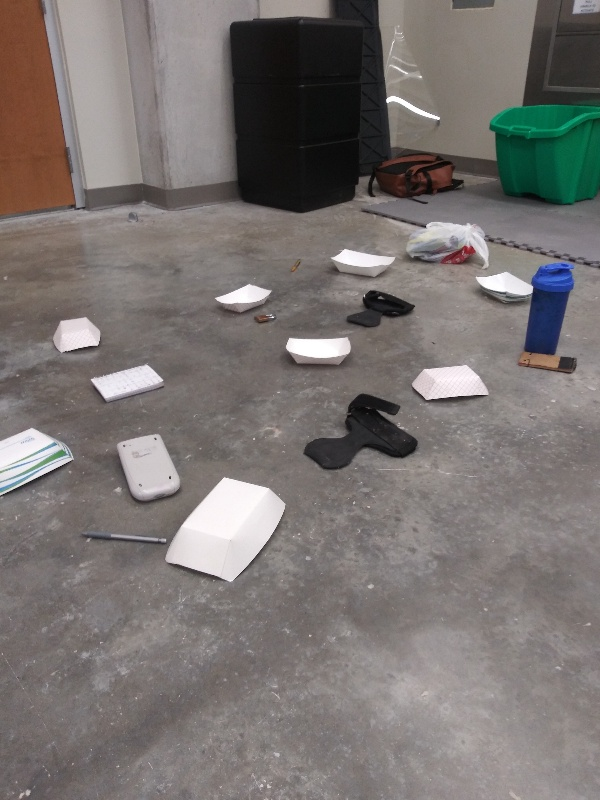plate: (161, 471, 292, 587), (1, 425, 81, 500), (405, 365, 493, 406), (209, 279, 276, 319), (280, 334, 353, 370), (327, 244, 400, 280), (51, 313, 108, 359), (471, 268, 535, 307)
